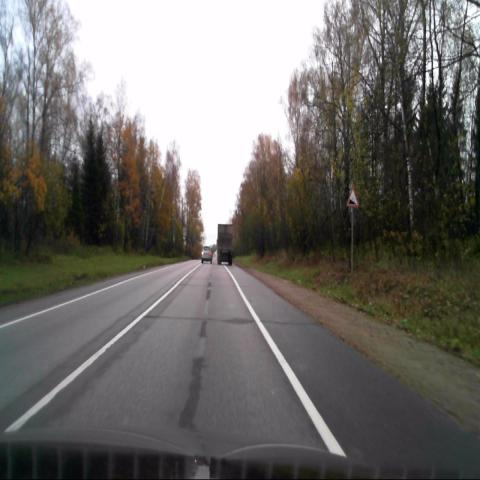1_13: (346, 186, 358, 207)
